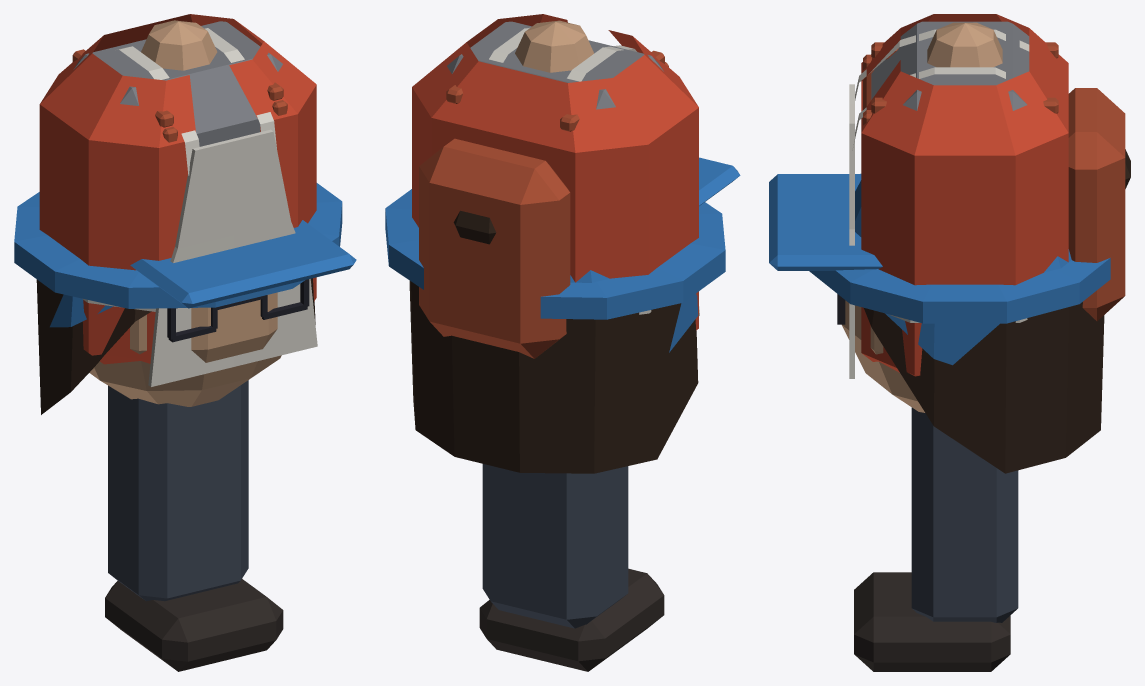
File: person_parts.glb
3 views of the same model, side by side, from view 1: azimuth 30°, elevation 25°; view 2: azimuth 150°, elevation 25°; view 3: azimuth 270°, elevation 25° (orthographic). The views are drawn at different scales.
Parts seen in each view (by area): view 1: Vest, LegL, Apron, LegR, Torso, Hair_cap, Hair_sunhat, Head, Hair_long, Glasses, Pack, Hair_beanie; view 2: Vest, Hair_long, Pack, LegL, Hair_sunhat, LegR, Torso, Apron, Hair_cap, Hair_bun, Hair_beanie; view 3: Vest, LegR, Hair_long, Pack, Hair_sunhat, Hair_cap, Torso, Apron, Hair_beanie, Head, LegL.
Part boxes in pixels (bbox=[...]): Vest: bbox=[39, 14, 316, 364]; LegL: bbox=[105, 385, 249, 671]; Apron: bbox=[82, 28, 317, 386]; LegR: bbox=[191, 380, 283, 664]; Torso: bbox=[73, 20, 282, 146]; Hair_cap: bbox=[130, 220, 356, 308]; Hair_sunhat: bbox=[14, 183, 342, 308]; Head: bbox=[89, 292, 281, 406]; Hair_long: bbox=[36, 278, 315, 414]; Glasses: bbox=[167, 279, 309, 342]; Pack: bbox=[72, 49, 287, 142]; Hair_beanie: bbox=[50, 294, 113, 327]; Vest: bbox=[412, 14, 698, 330]; Hair_long: bbox=[409, 281, 698, 473]; Pack: bbox=[419, 50, 668, 358]; LegL: bbox=[514, 466, 664, 671]; Hair_sunhat: bbox=[385, 189, 725, 319]; LegR: bbox=[479, 464, 556, 660]; Torso: bbox=[447, 20, 663, 109]; Apron: bbox=[489, 27, 699, 315]; Hair_cap: bbox=[699, 157, 740, 205]; Hair_bun: bbox=[453, 210, 496, 244]; Hair_beanie: bbox=[570, 270, 698, 352]; Vest: bbox=[861, 14, 1068, 376]; LegR: bbox=[854, 407, 1018, 671]; Hair_long: bbox=[864, 302, 1104, 473]; Pack: bbox=[863, 42, 1125, 321]; Hair_sunhat: bbox=[809, 173, 1110, 323]; Hair_cap: bbox=[769, 174, 882, 270]; Torso: bbox=[871, 21, 1029, 110]; Apron: bbox=[849, 29, 1029, 378]; Hair_beanie: bbox=[855, 180, 1071, 365]; Head: bbox=[842, 300, 924, 412]; LegL: bbox=[854, 572, 1010, 620].
Bounding box in the file's own units: 0.7863 × 1.59 × 0.8309.
